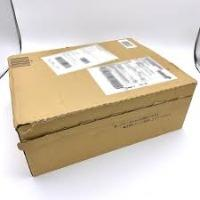undamaged: (2, 35, 197, 177)
